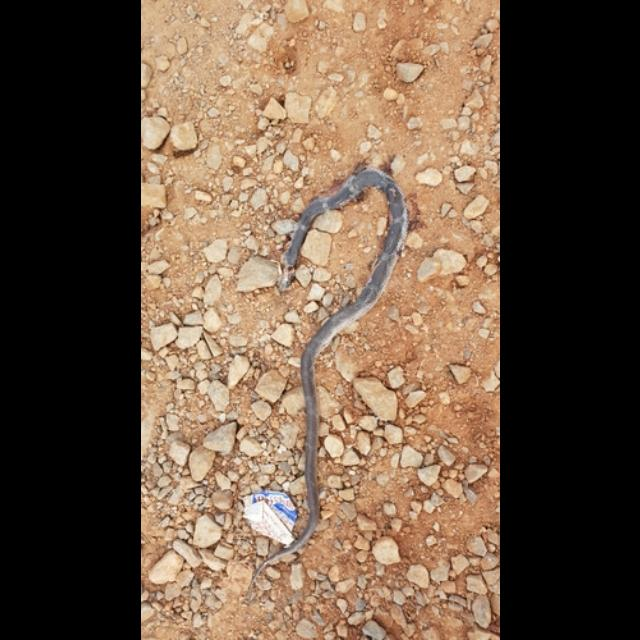snake: (277, 161, 405, 567)
